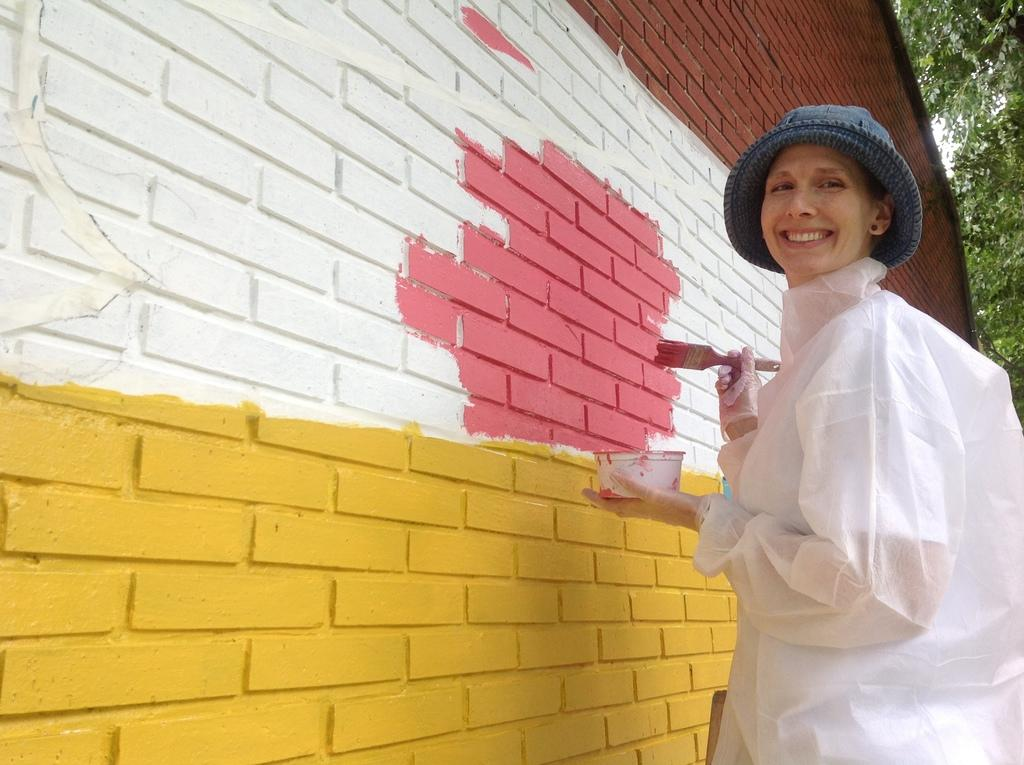Hat: (722, 103, 920, 276)
